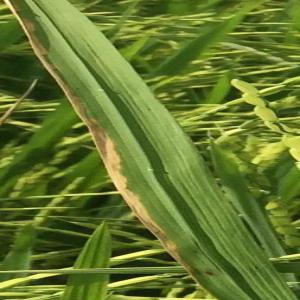Bacterial_Blight: (67, 33, 207, 268)
